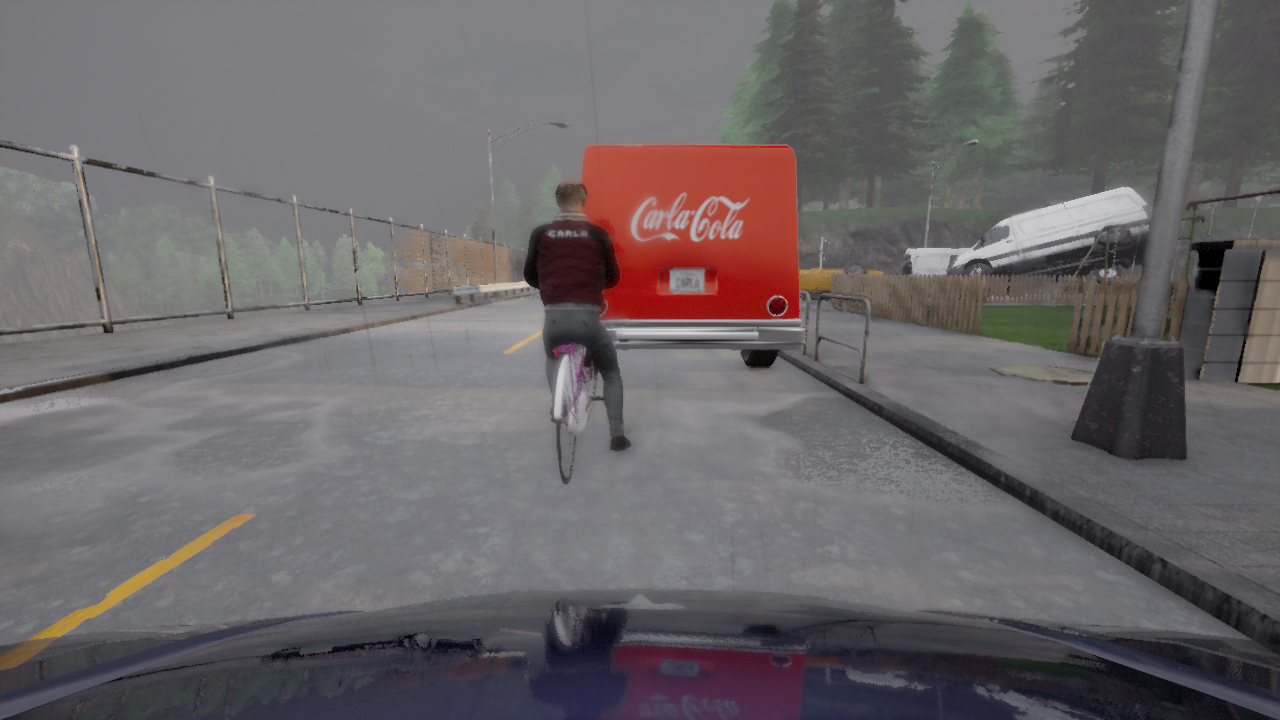cyclist: (0, 588, 1279, 719), (576, 144, 805, 366), (946, 185, 1151, 295), (551, 343, 603, 484), (906, 246, 1032, 297), (799, 262, 885, 300)
pedestrian: (901, 254, 911, 282)
